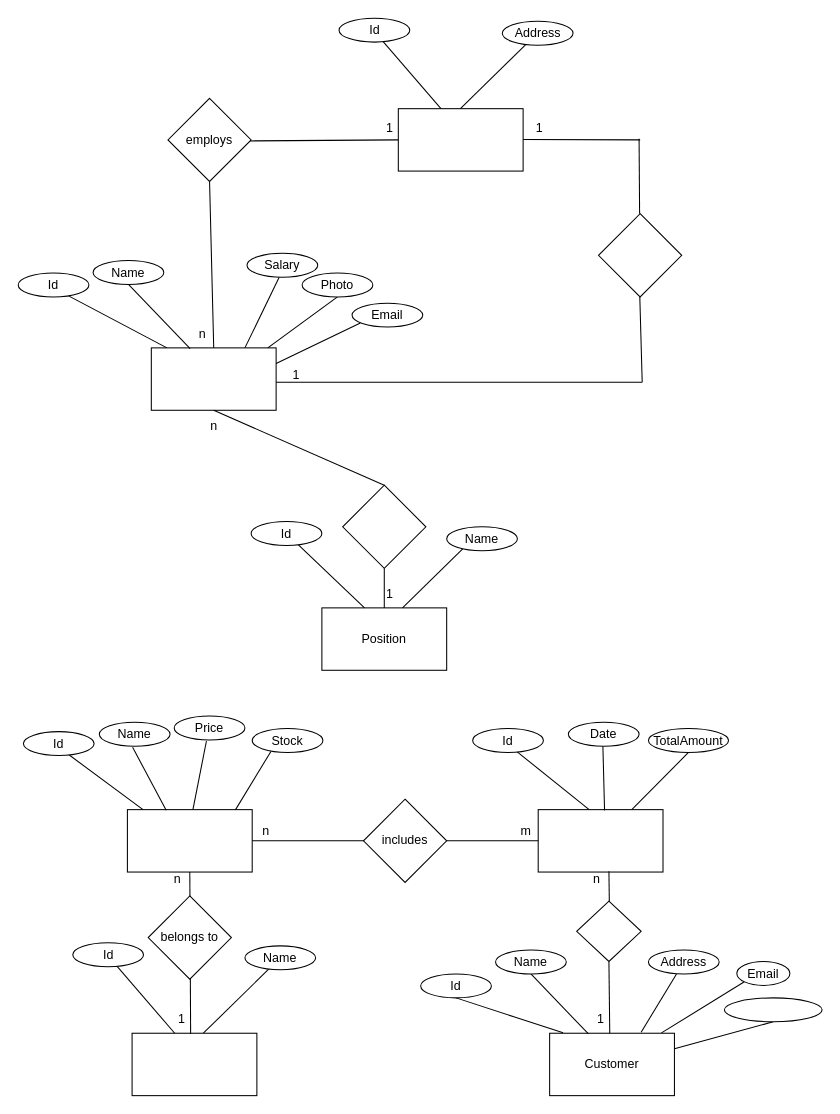
The diagram is 840 pixels wide and 1114 high, and some of its shapes have lost their labels. The shapes that lost their labels are listed below. From the top down, each one's centre as x and y in pixels, then its label:
(460,139): Store
(639,255): manages
(213,378): Employee
(384,526): holds
(189,840): Product
(600,840): Order
(608,930): places
(772,1009): PhoneNumber
(194,1064): Category
